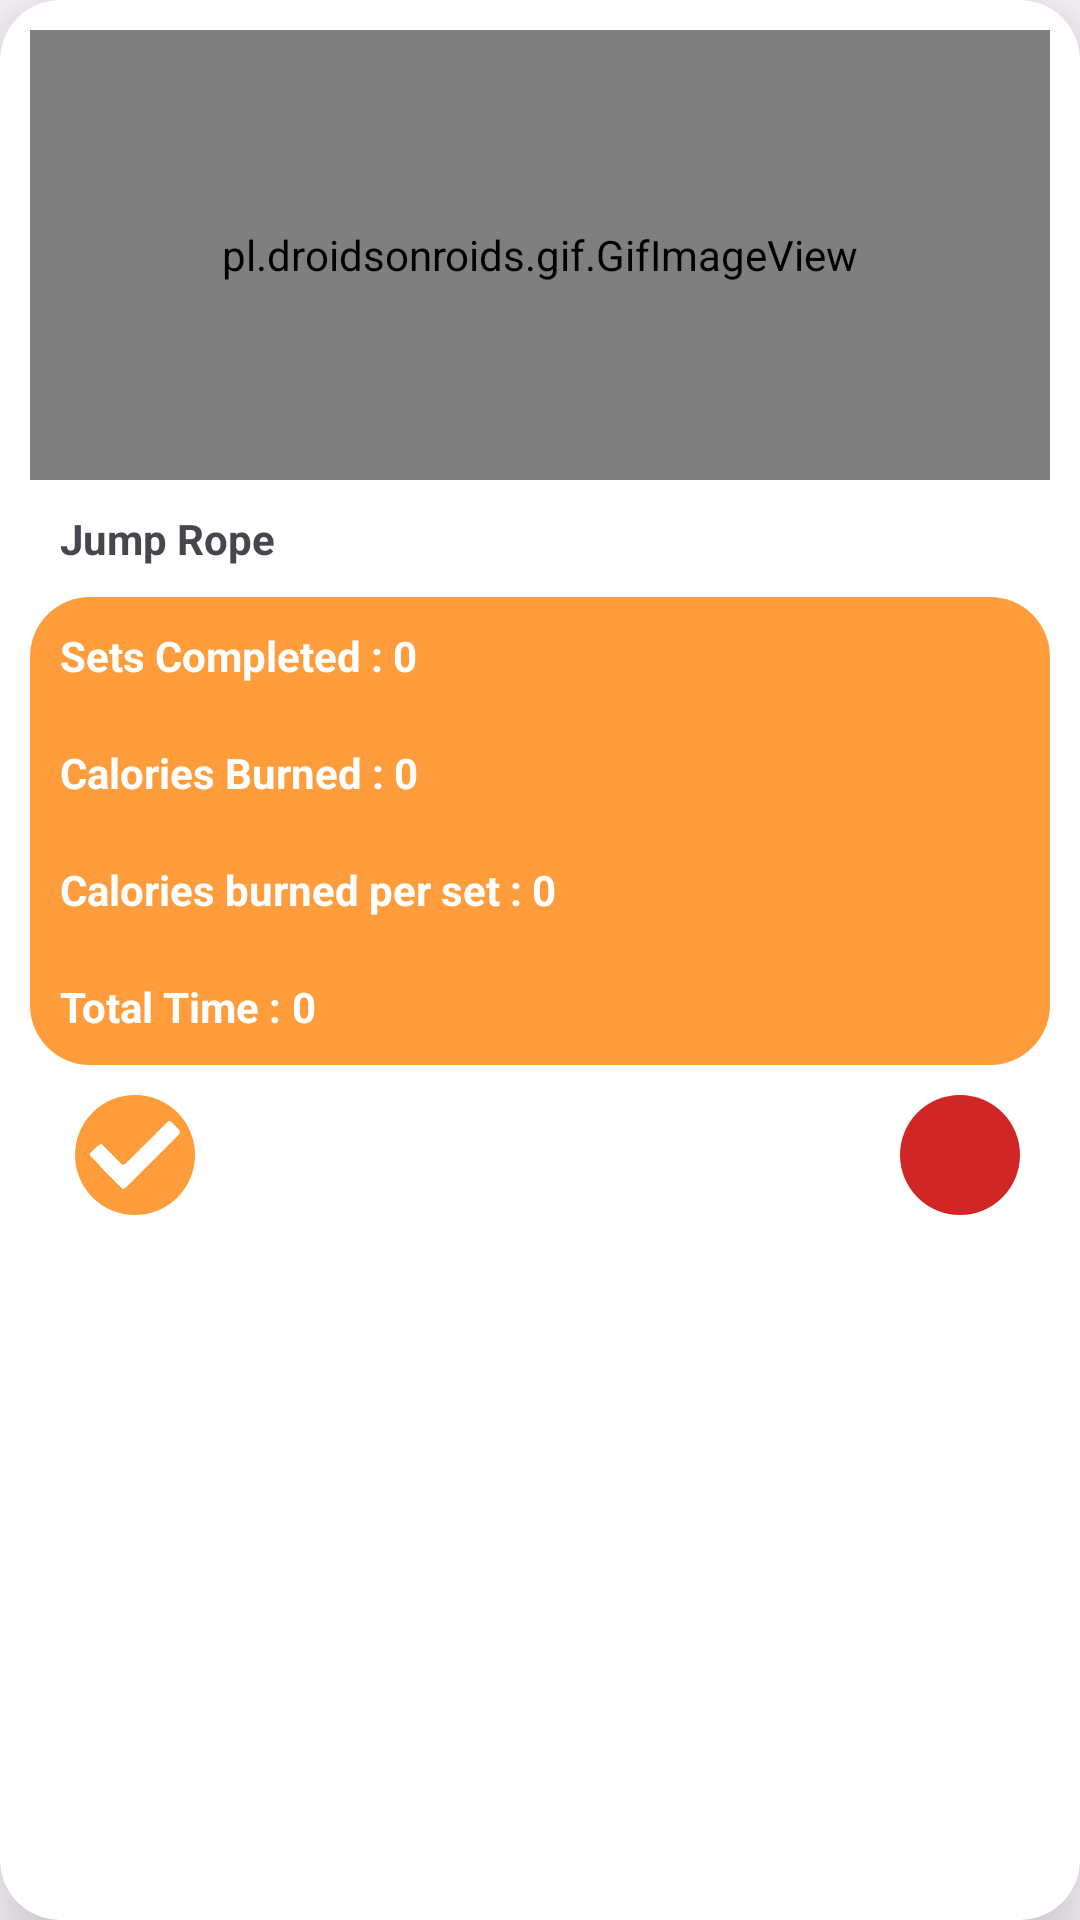

Where icons sit on this 1080px x 1920px app screen, as (x1, y1, x2, y2):
checkmark: (75, 1095, 195, 1215)
